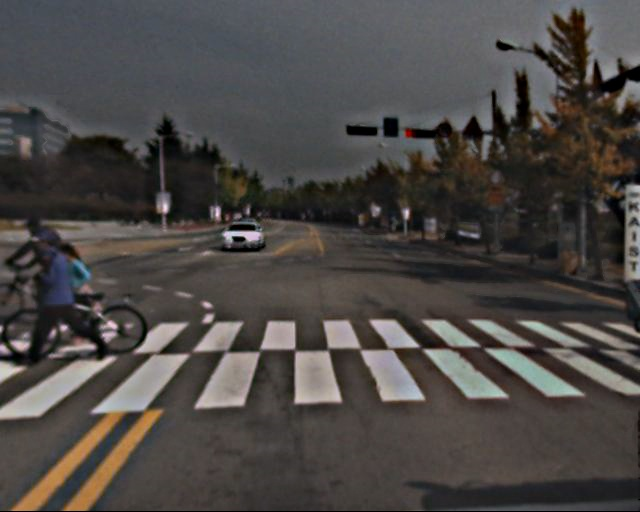person: (17, 212, 120, 353)
